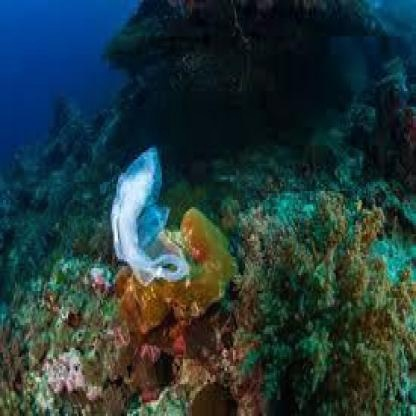pbag: (109, 144, 191, 286)
